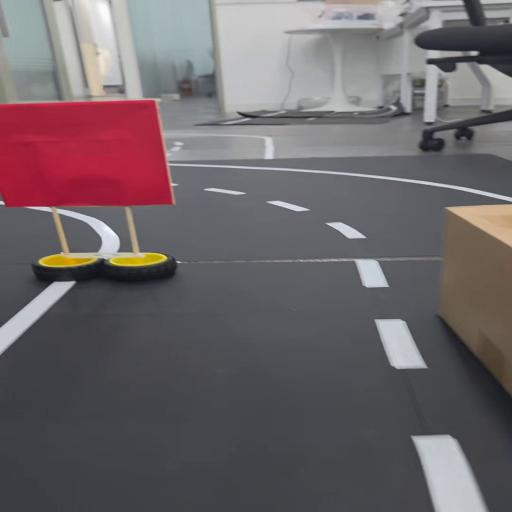Sign_A: (0, 98, 194, 284)
